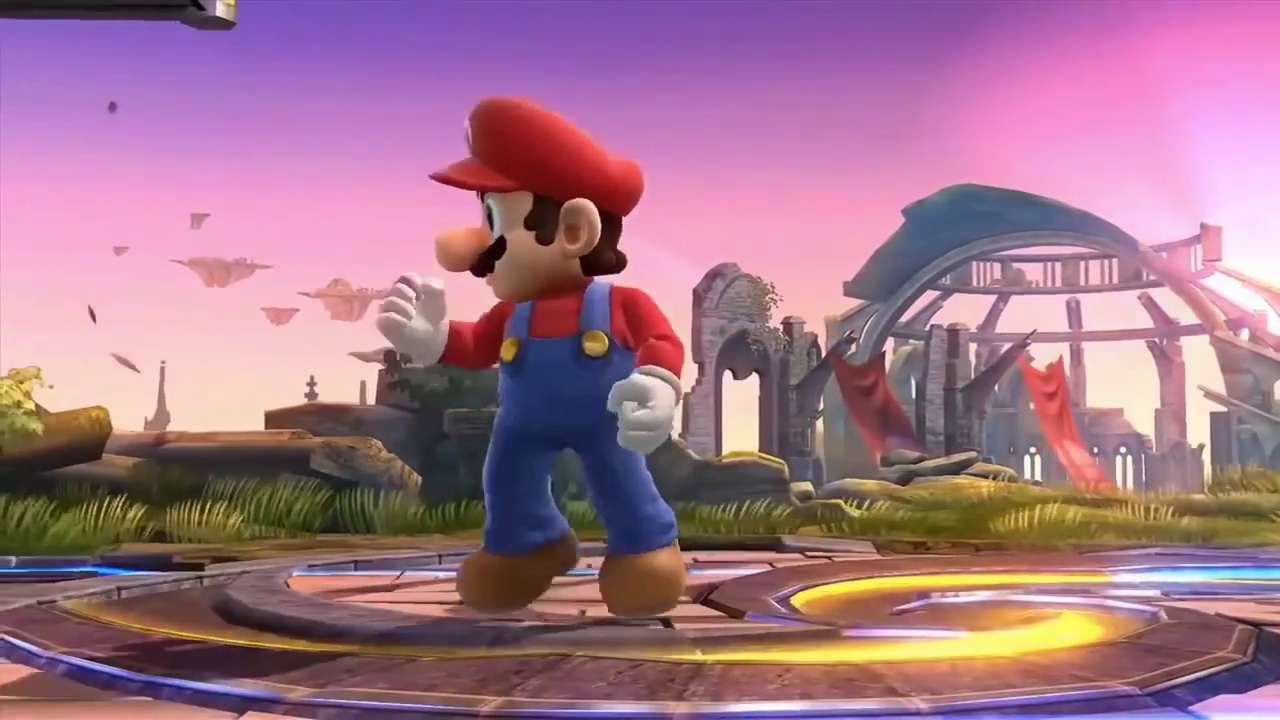Mario: (380, 95, 682, 618)
